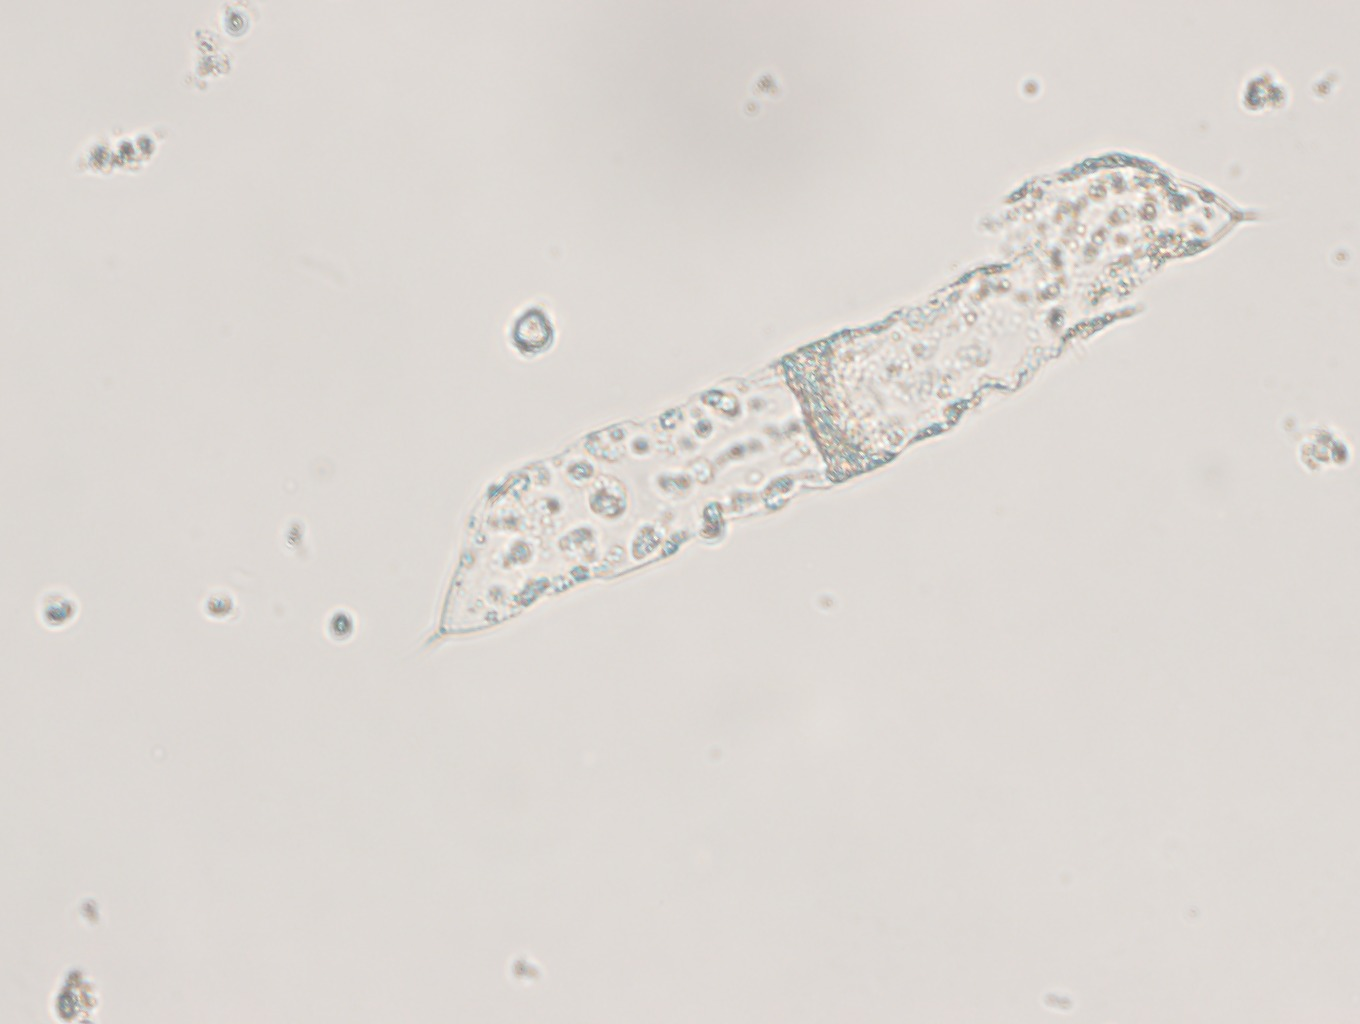rhizosolenia: (419, 150, 1273, 656)
